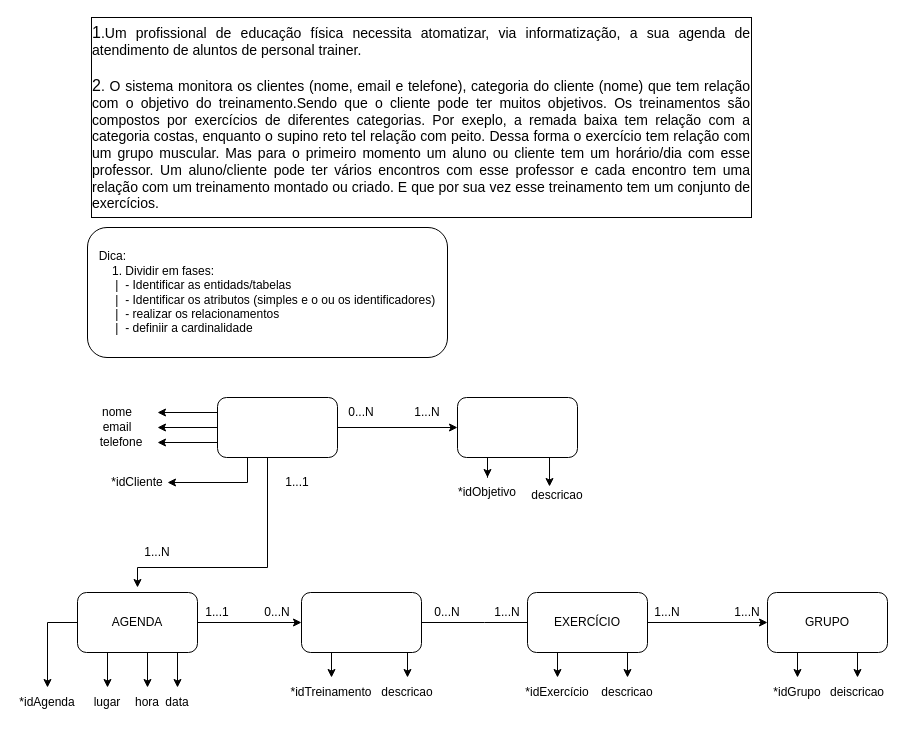
The diagram is 905 pixels wide and 735 high, and some of its shapes have lost their labels. Here are the shapes that lost their labels. From the top down, the centre of each, then its label:
At [277,427]: "CLIENTE".
At [517,427]: "OBJETIVO".
At [361,622]: "TREINAMENTO".
